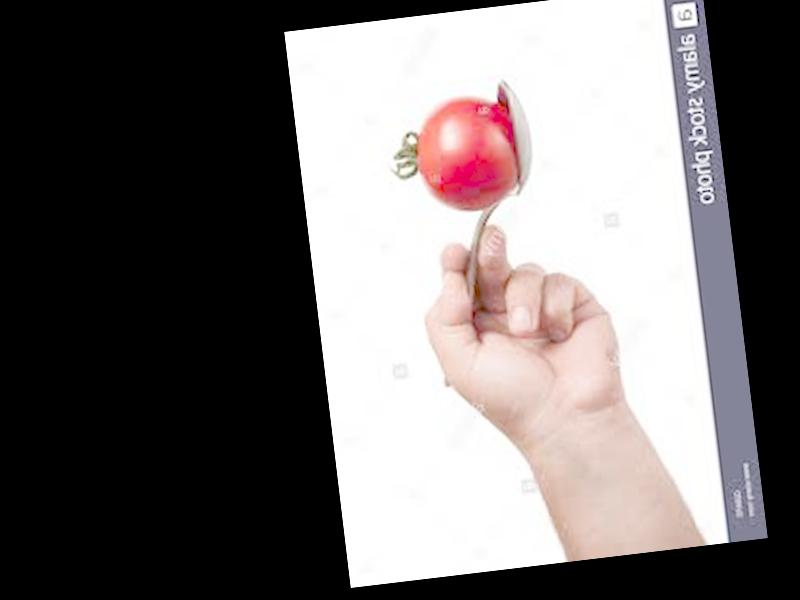Tomato: (410, 93, 521, 217)
